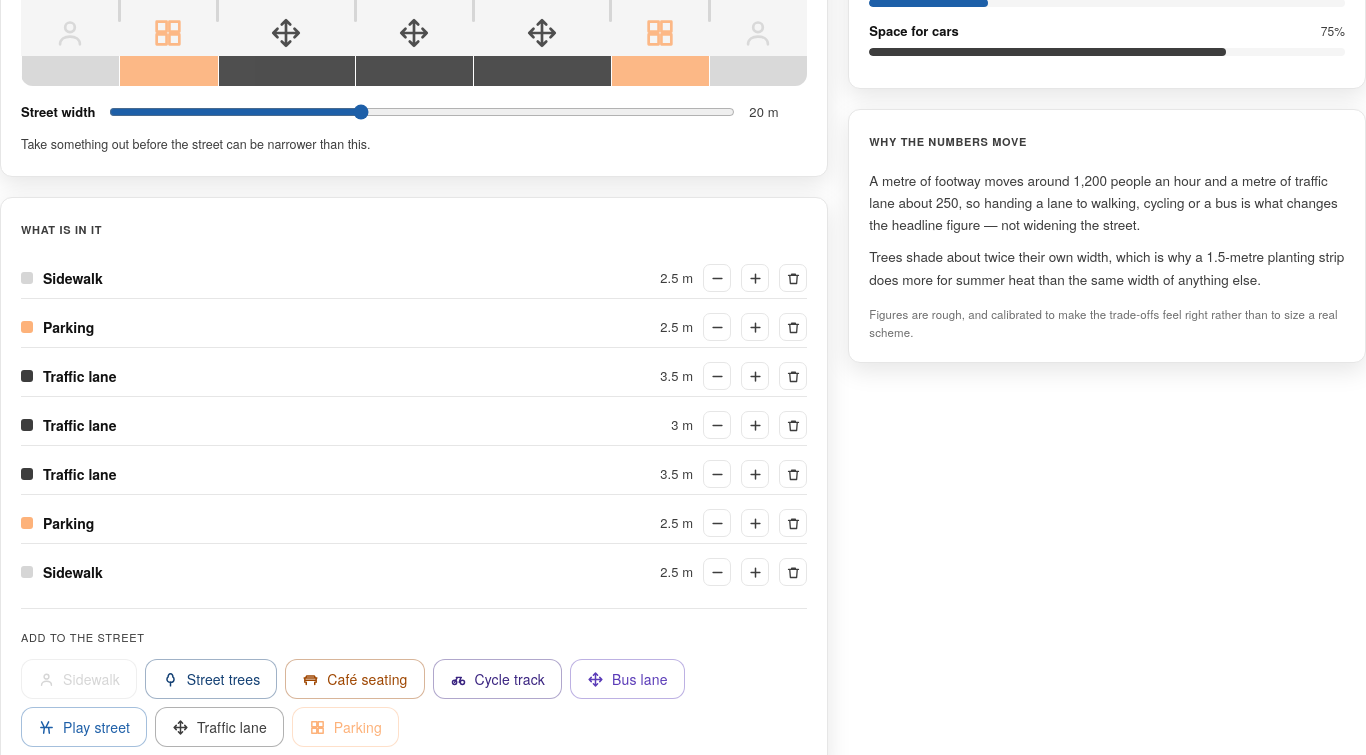
Test: Street Section Mixer › adds something to the street, squeezing what is already there
(page scrolled)
Click the button "Bus lane".
click(627, 679)  # box 570,659 -> 685,699
(page scrolled)
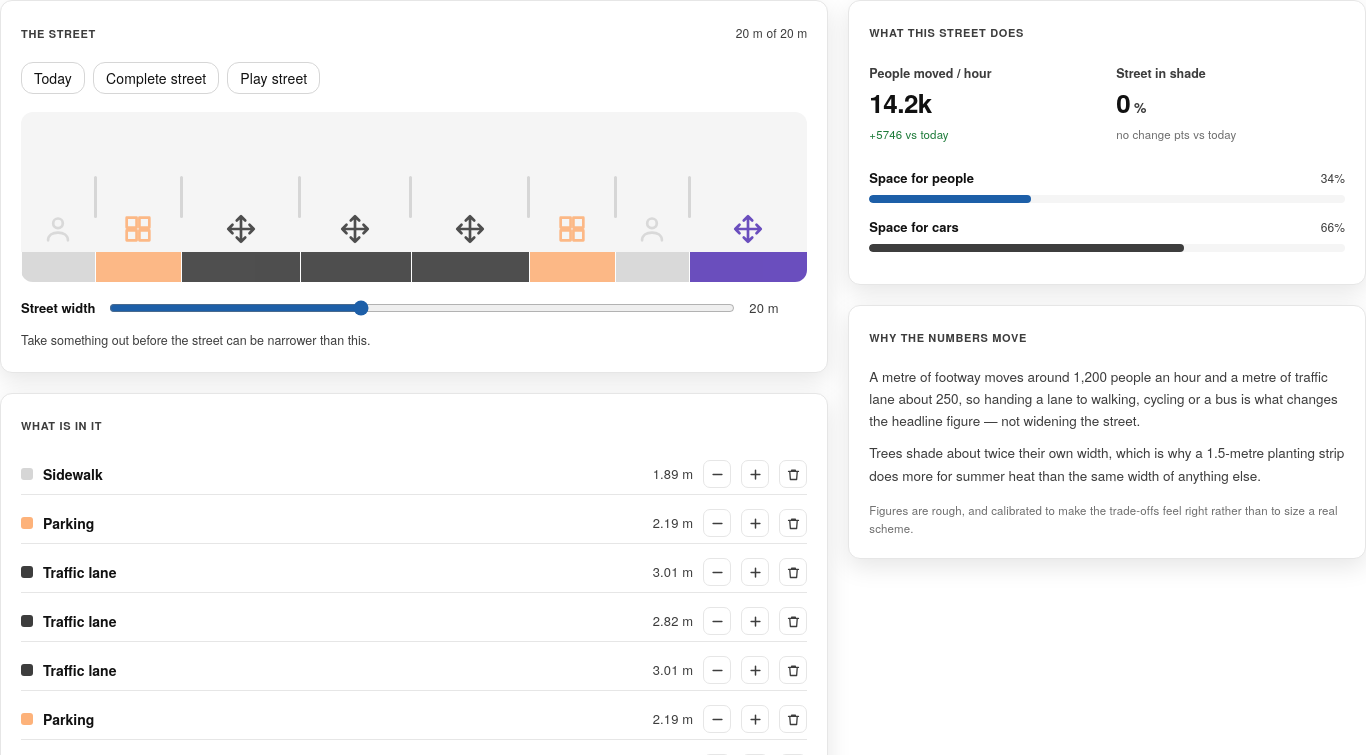
Expected: the text "20 m of 20 m" is shown, 736,21 -> 807,45
Expected: the text "14.2k" is shown, 869,84 -> 932,121
